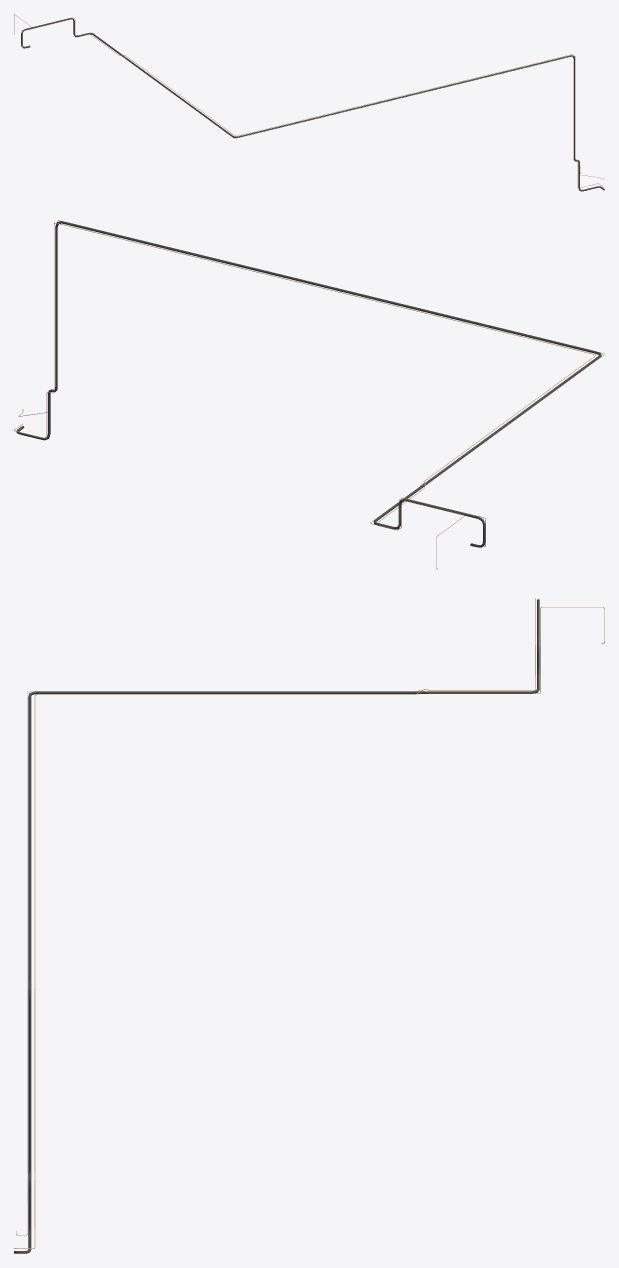
The model's file is pipes_hvac__hvac-heatpump_attic.glb.
The picture shows the model from 3 angles, top to bottom: view 1: azimuth 30°, elevation 25°; view 2: azimuth 150°, elevation 25°; view 3: azimuth 270°, elevation 25°; orthographic projection. The views are drawn at different scales.
Parts seen in each view (by area): view 1: pipe_hvac_lineset_suction_hp_rd16ay36, pipe_hvac_lineset_liquid_hp_rd16ay36, pipe_hvac_lineset_tstat_cable_hp_rd16ay36; view 2: pipe_hvac_lineset_suction_hp_rd16ay36, pipe_hvac_lineset_liquid_hp_rd16ay36, pipe_hvac_lineset_tstat_cable_hp_rd16ay36; view 3: pipe_hvac_lineset_suction_hp_rd16ay36, pipe_hvac_lineset_liquid_hp_rd16ay36, pipe_hvac_lineset_tstat_cable_hp_rd16ay36.
Part boxes in pixels (<box>): pipe_hvac_lineset_suction_hp_rd16ay36: <box>21,18,604,191</box>; pipe_hvac_lineset_liquid_hp_rd16ay36: <box>22,18,604,188</box>; pipe_hvac_lineset_tstat_cable_hp_rd16ay36: <box>14,14,603,179</box>; pipe_hvac_lineset_suction_hp_rd16ay36: <box>16,221,601,547</box>; pipe_hvac_lineset_liquid_hp_rd16ay36: <box>14,222,596,546</box>; pipe_hvac_lineset_tstat_cable_hp_rd16ay36: <box>18,220,604,569</box>; pipe_hvac_lineset_suction_hp_rd16ay36: <box>14,599,539,1253</box>; pipe_hvac_lineset_liquid_hp_rd16ay36: <box>14,598,535,1248</box>; pipe_hvac_lineset_tstat_cable_hp_rd16ay36: <box>16,607,604,1235</box>.
Size of the model in its own units: 13.15 by 4.56 by 8.7.
